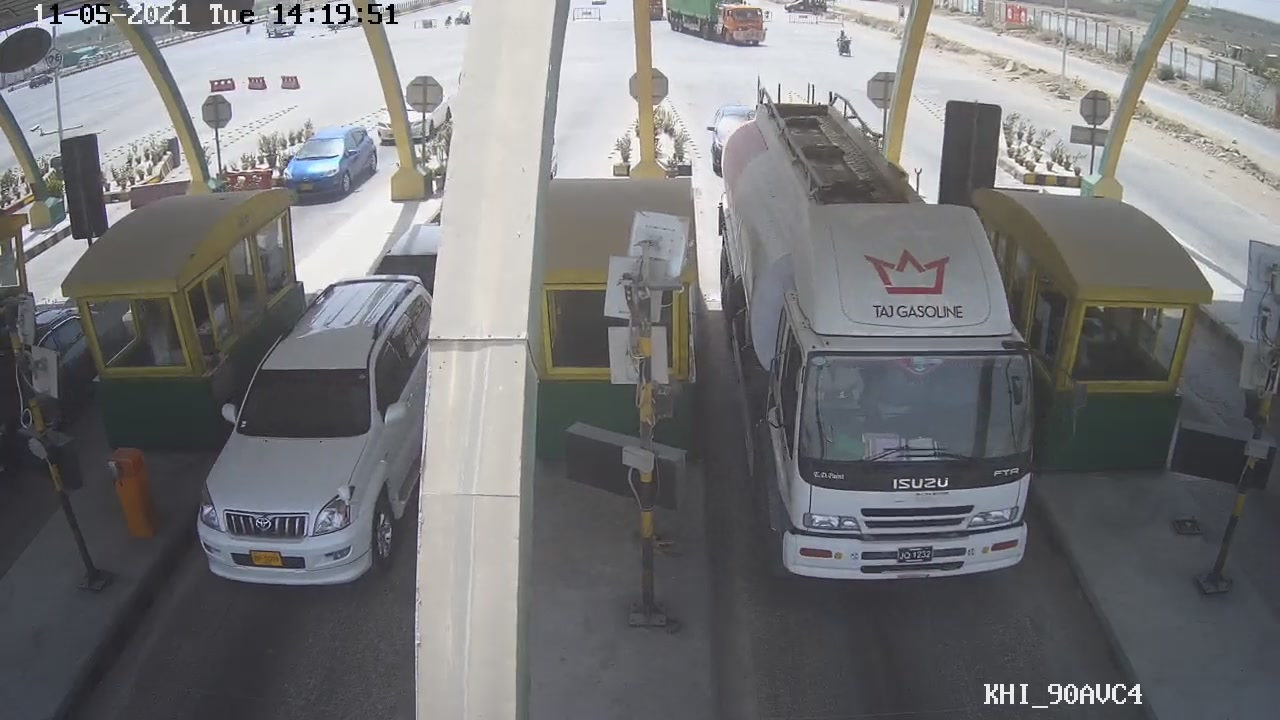F6: (731, 83, 1030, 586)
